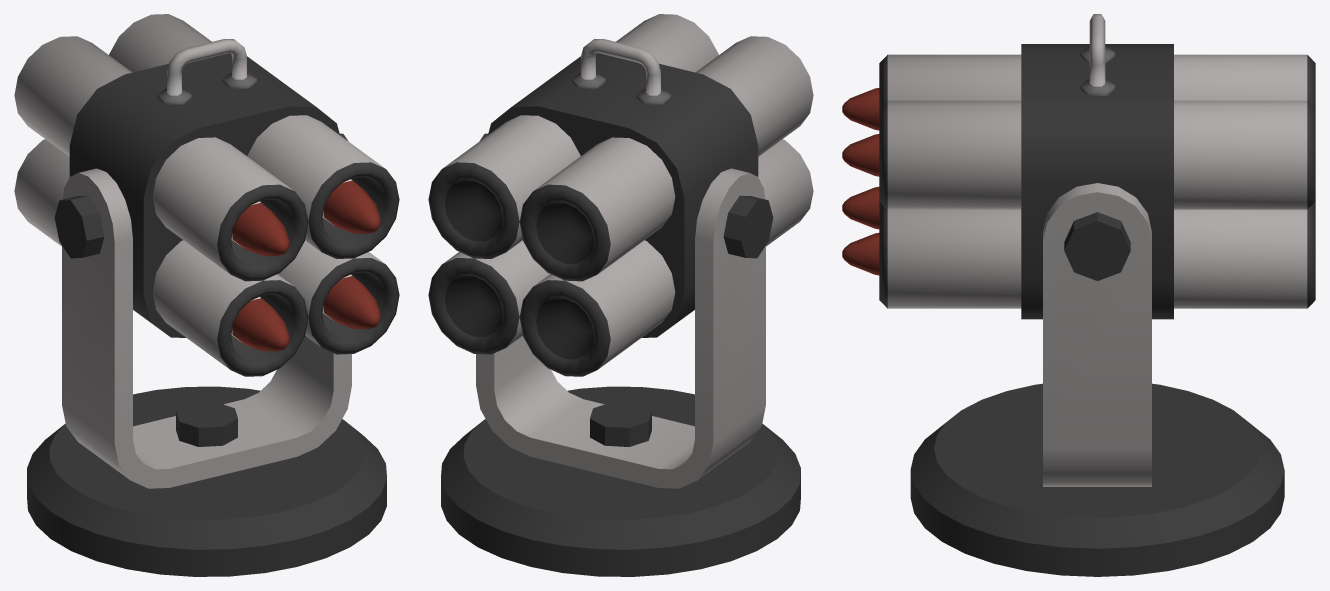
File: missile_launcher_1.fbx
3 views of the same model, side by side, from view 1: azimuth 30°, elevation 25°; view 2: azimuth 150°, elevation 25°; view 3: azimuth 270°, elevation 25° (orthographic). The views are drawn at different scales.
Visible parts, largest first — view 1: missile_launcher_1_turret, missile_launcher_1; view 2: missile_launcher_1_turret, missile_launcher_1; view 3: missile_launcher_1_turret, missile_launcher_1.
Boxes of the visible parts, bbox=[...] form: missile_launcher_1_turret: bbox=[14, 14, 399, 376]; missile_launcher_1: bbox=[27, 133, 386, 576]; missile_launcher_1_turret: bbox=[428, 14, 813, 376]; missile_launcher_1: bbox=[441, 133, 800, 576]; missile_launcher_1_turret: bbox=[842, 14, 1315, 319]; missile_launcher_1: bbox=[910, 183, 1284, 576].
Size of the model in its own units: 0.48 by 0.6076 by 0.6687.
